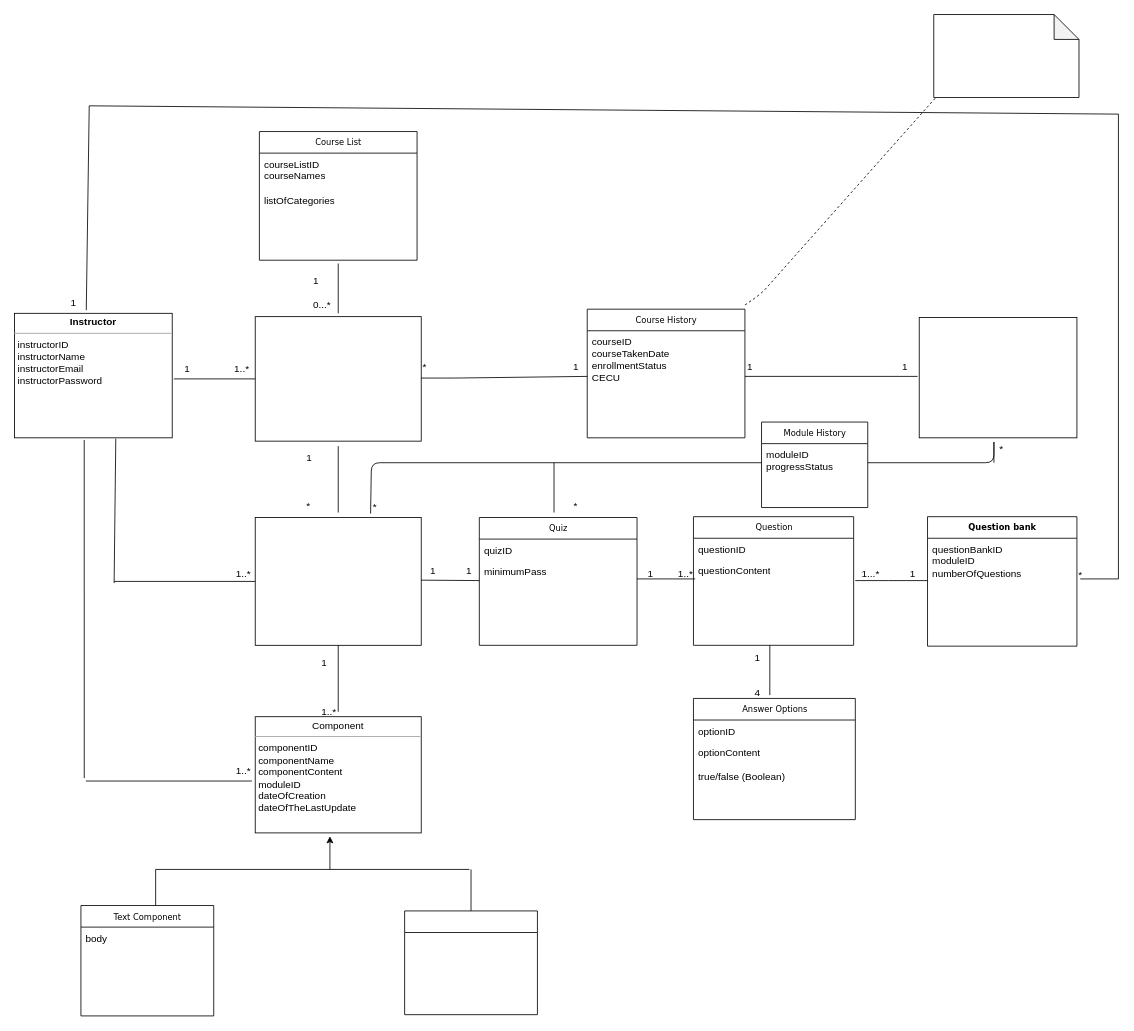
Some shapes in this 1134 by 1031 pixel diagram are drawn without their labels. Here are the shapes that lost their labels. From the top down, the centre of each, then its label:
At point (1006, 56): "Enrollment status = enrolled or completed (1 or 0, Boolean)".
At point (337, 378): "Course courseID courseTitle courseDescription ECU courseCategory courseStatus".
At point (997, 377): "Learner learnerID learnerName learnerEmail".
At point (337, 581): "Module moduleID moduleTitle modulePosition".
At point (470, 962): "Image Component".
